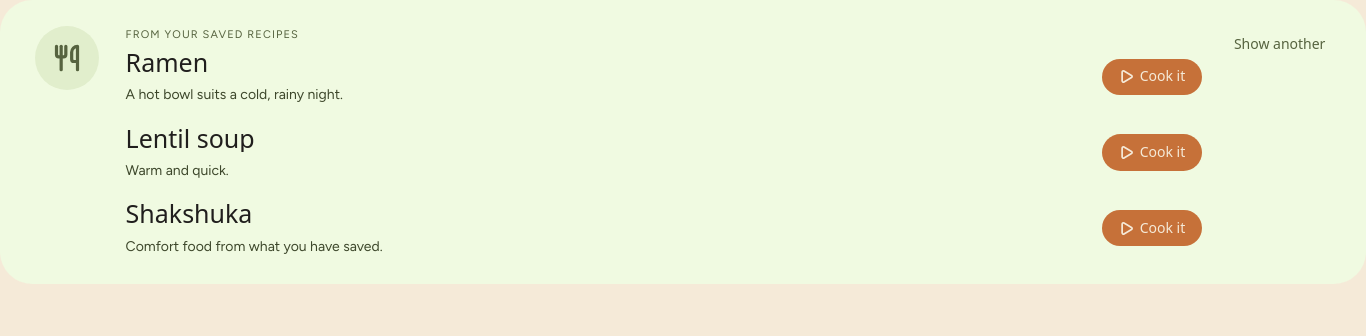
Test case: HomeRecommendation › UI-18 keeps the list and says "No other suggestions right now" when the re-prompt returns no pick
The width and height of the screenshot is (1366, 336).
Expected: the text "Ramen" is shown, [126,48,208,76]
Click the button "Show another" at (1280, 45), box [1228,26,1331,63]
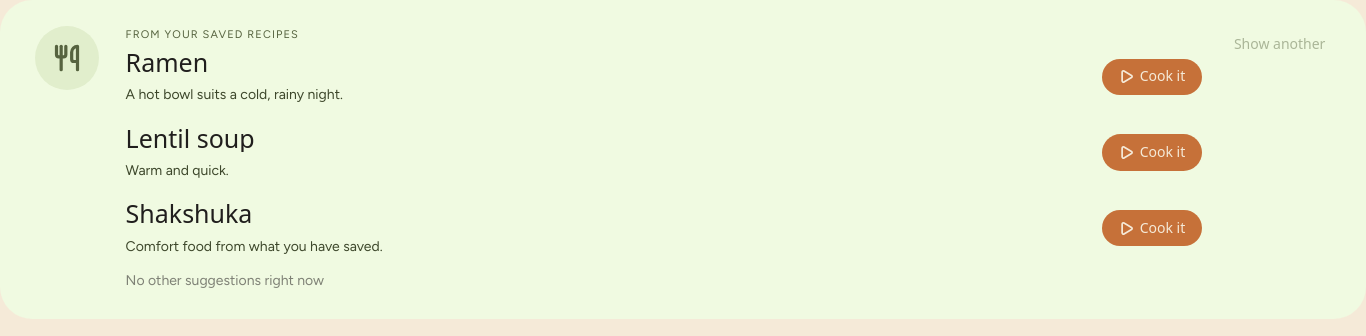
Expected: the text "Ramen" is shown, [126,48,208,76]
Now the text "No other suggestions right now" is shown, box [126,272,324,289]
